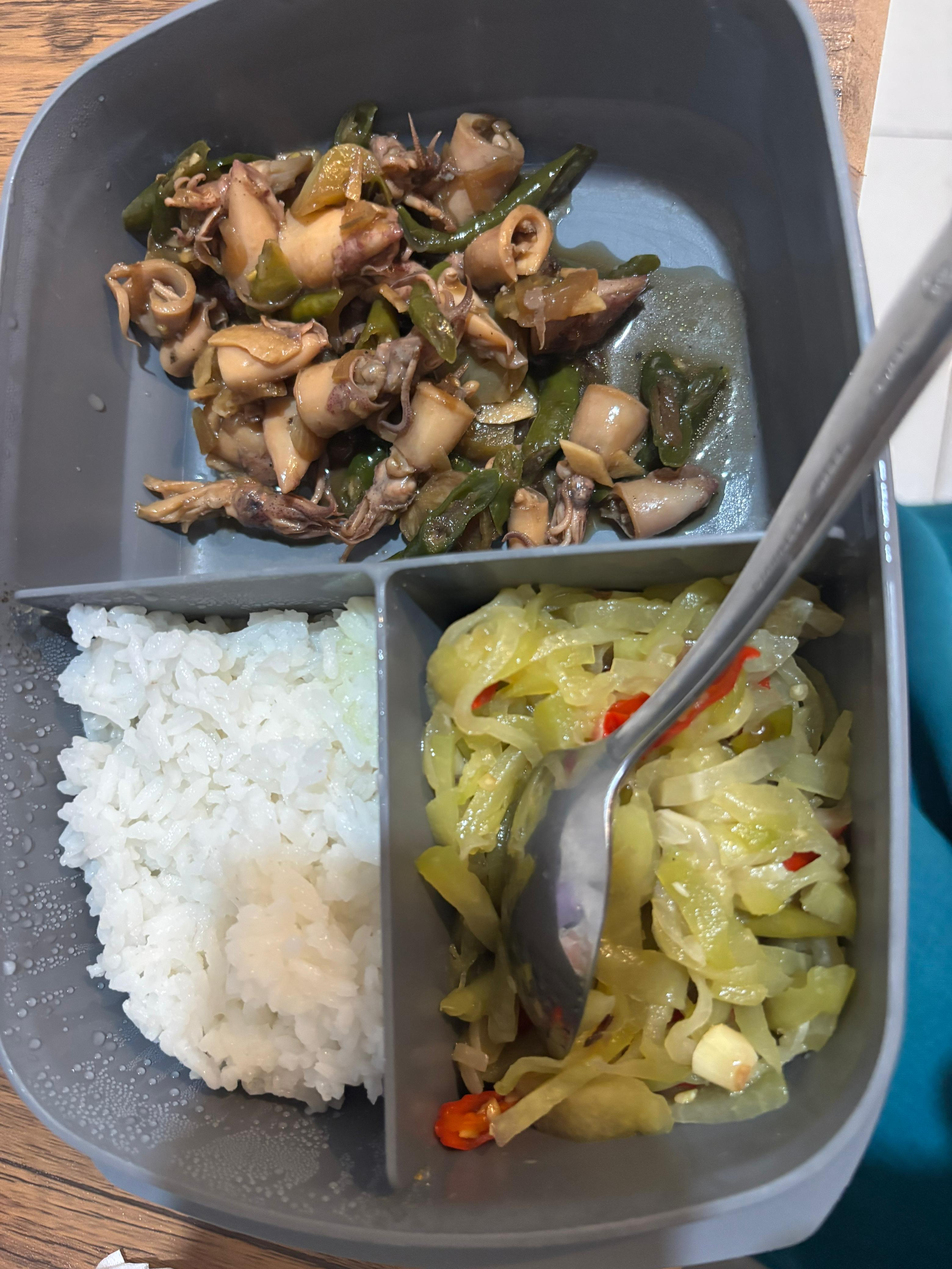buah_sayur_lainnya: (429, 633, 816, 1165)
makanan_berpati: (72, 641, 366, 1136)
